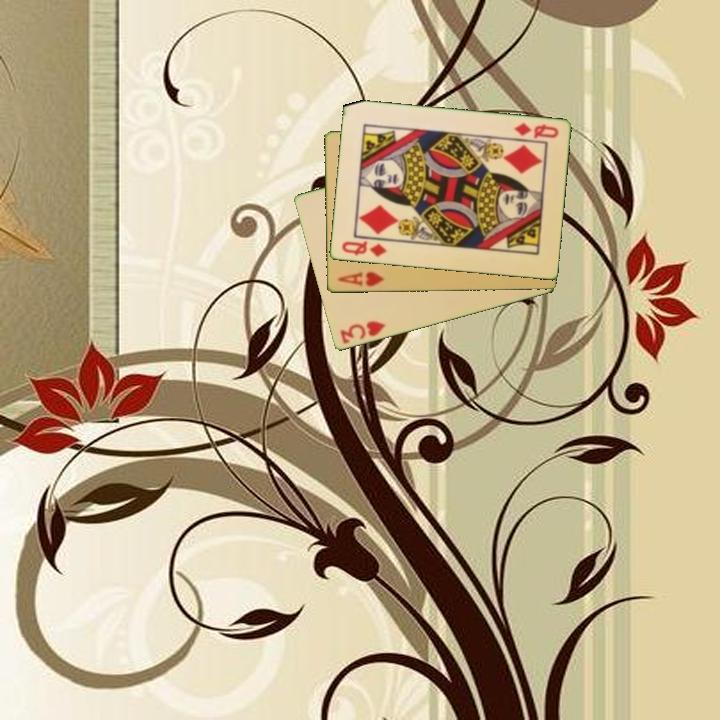3h: (336, 318, 388, 347)
Ah: (334, 268, 387, 290)
Qd: (338, 238, 389, 260), (510, 120, 561, 142)
